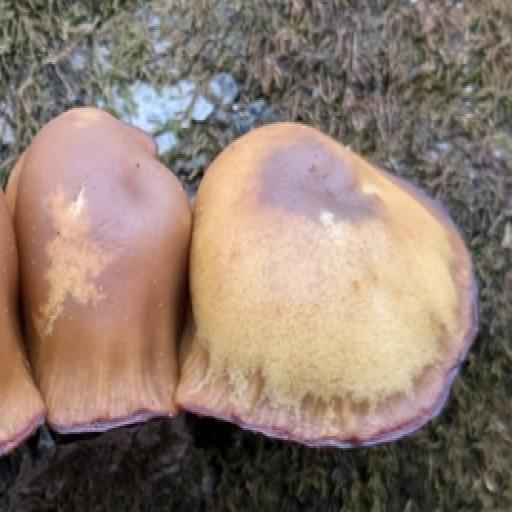mushroom: (10, 98, 486, 463)
